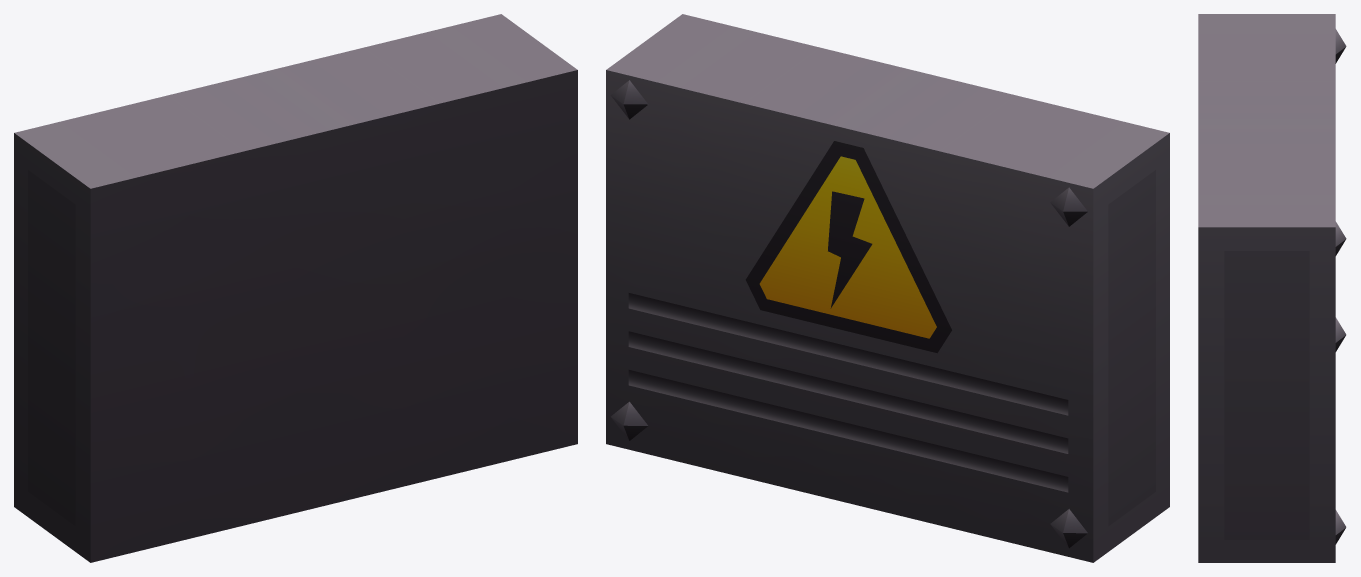
The model's file is Power_Box_1B.fbx.
The picture shows the model from 3 angles, left to right: view 1: azimuth 30°, elevation 25°; view 2: azimuth 150°, elevation 25°; view 3: azimuth 270°, elevation 25°; orthographic projection. The views are drawn at different scales.
Visible parts, largest first — view 1: Power_Box_1B; view 2: Power_Box_1B; view 3: Power_Box_1B.
Boxes of the visible parts, box(x1,y1,x2,y2) form: Power_Box_1B: box(14, 14, 577, 562); Power_Box_1B: box(606, 14, 1169, 562); Power_Box_1B: box(1198, 14, 1346, 562).
Bounding box in the file's own units: 1.84 × 1.35 × 0.5396.
